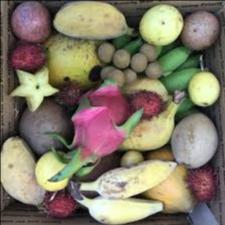thanh_long: (72, 80, 132, 168)
